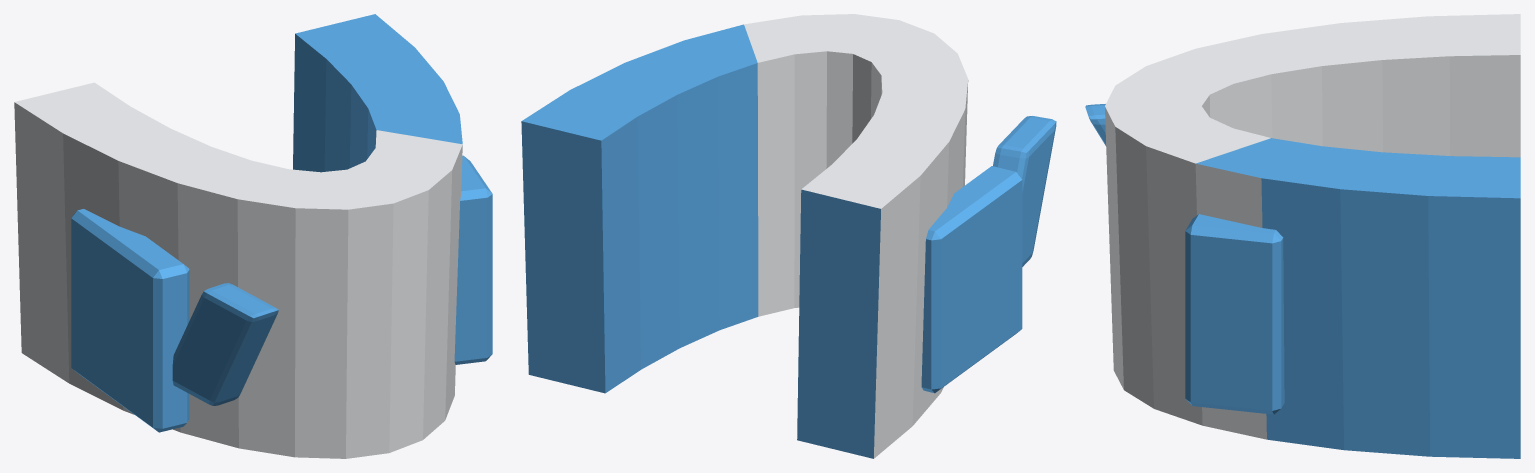
The model's file is right_shoulder__bold.glb.
3 renders of one model, left to right at view 1: azimuth 30°, elevation 25°; view 2: azimuth 150°, elevation 25°; view 3: azimuth 270°, elevation 25°, orthographic. The views are drawn at different scales.
Parts seen in each view (by area): view 1: armor_right_shoulder__bold_v001; view 2: armor_right_shoulder__bold_v001; view 3: armor_right_shoulder__bold_v001.
Part boxes in pixels (box(x1,y1,x2,y2)): armor_right_shoulder__bold_v001: box(14, 14, 492, 458); armor_right_shoulder__bold_v001: box(521, 14, 1056, 458); armor_right_shoulder__bold_v001: box(1085, 14, 1520, 458).
Size of the model in its own units: 0.1772 by 0.118 by 0.1761.
